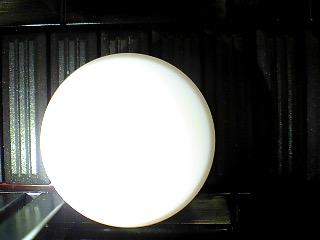BLANK: (40, 52, 215, 228)
